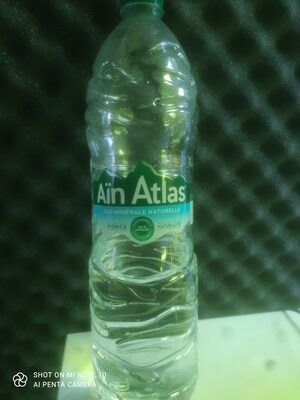CRISTALINE Eau De Source 0.5L: (15, 20, 285, 380)
